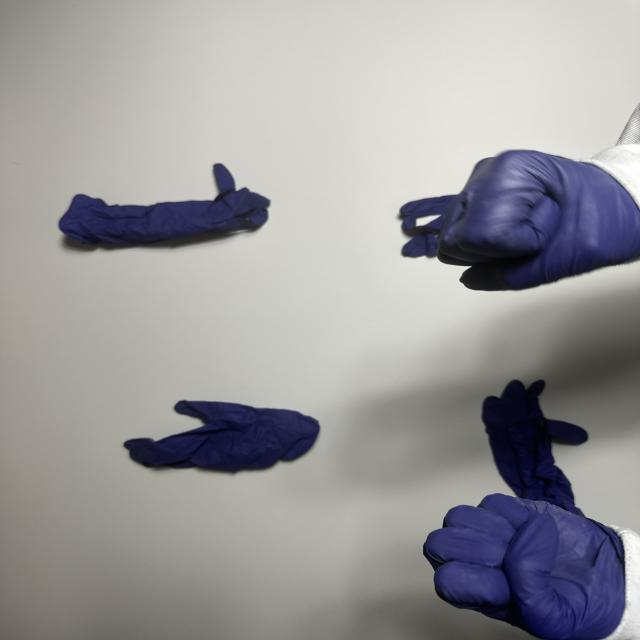gloves_contaminated: (424, 494, 625, 640), (438, 151, 640, 291)
